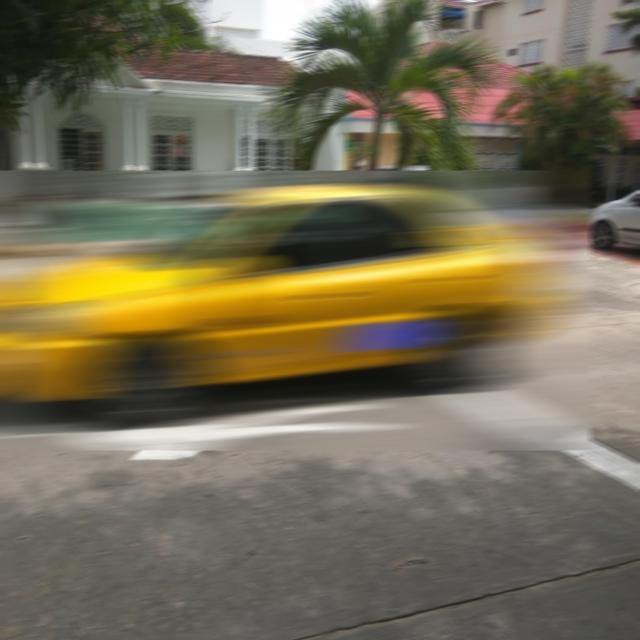Taxi: (0, 170, 590, 450)
